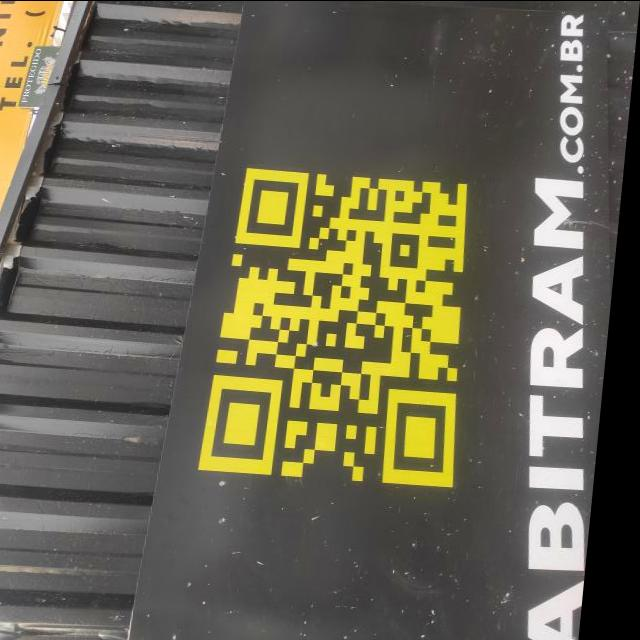qrcode: (206, 168, 488, 489)
